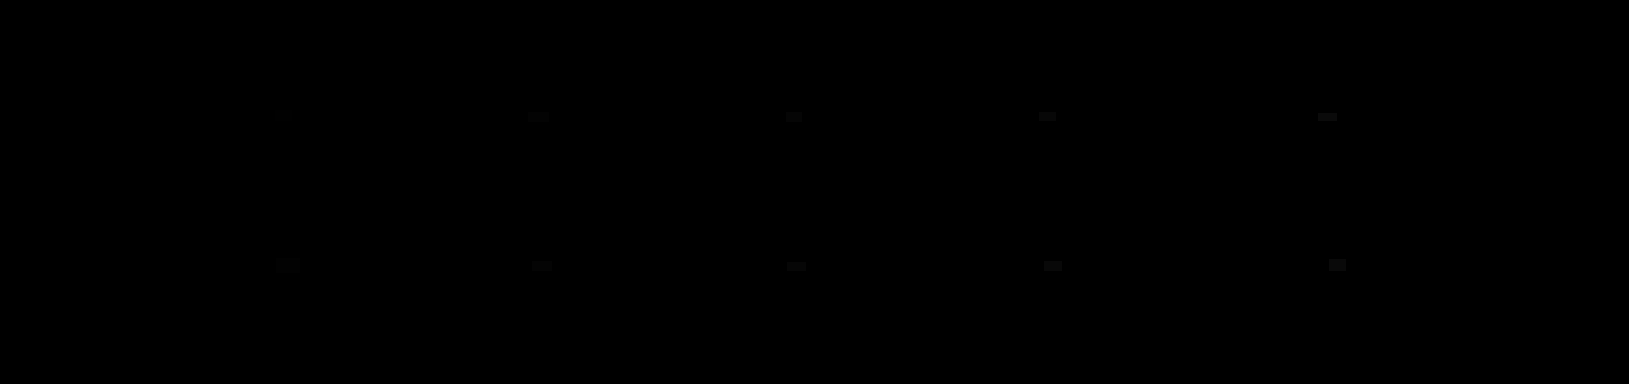light: (276, 258, 300, 273), (528, 112, 549, 122), (532, 260, 552, 271), (1329, 259, 1346, 271), (275, 110, 292, 121), (1044, 260, 1062, 271), (787, 262, 806, 271), (786, 112, 802, 122), (1039, 112, 1056, 121), (1318, 113, 1337, 121)
